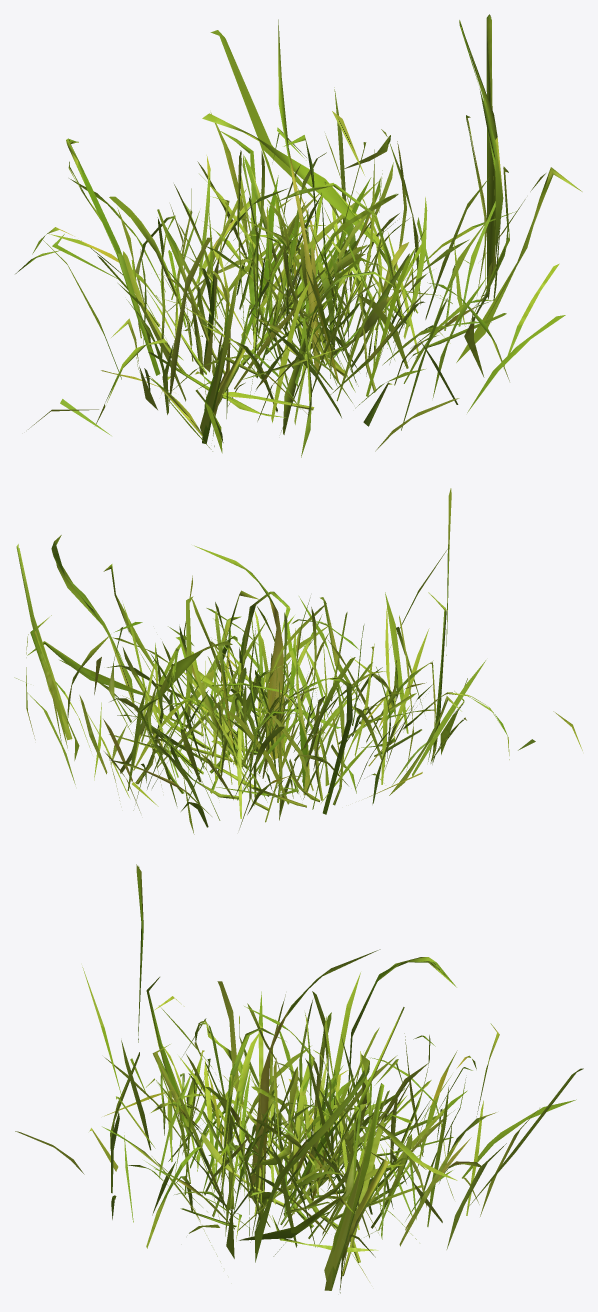
Rendered from grass_c.glb.
3 renders of one model, top to bottom at view 1: azimuth 30°, elevation 25°; view 2: azimuth 150°, elevation 25°; view 3: azimuth 270°, elevation 25°, orthographic. The views are drawn at different scales.
Visible parts, largest first — view 1: grass_c.glb; view 2: grass_c.glb; view 3: grass_c.glb.
Boxes of the visible parts, box(x1,y1,x2,y2) form: grass_c.glb: box(15, 14, 582, 457); grass_c.glb: box(14, 488, 582, 834); grass_c.glb: box(15, 864, 583, 1293).
Bounding box in the file's own units: 0.7888 × 0.436 × 0.7413.
1 material, 1 textured.
